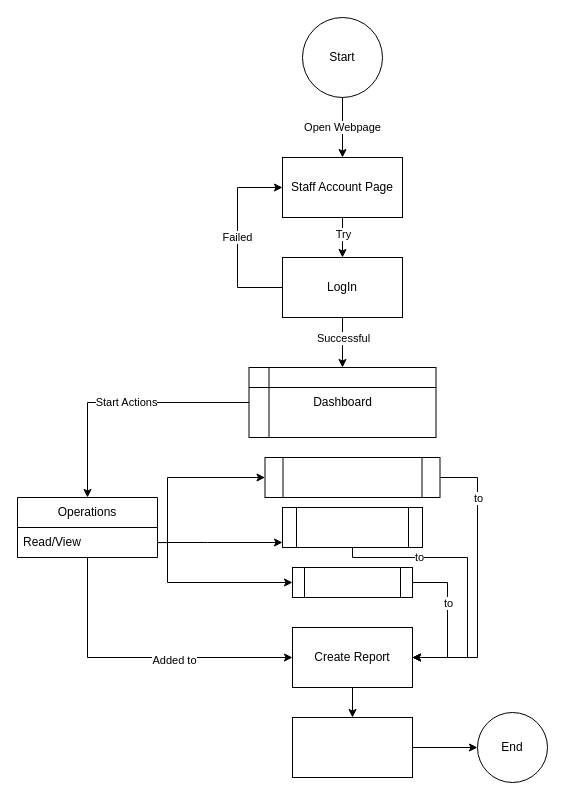
Some shapes in this 565 by 800 pixel diagram are drawn without their labels. The centre of each missing label's shape, as x and y in pixels:
Logout: the point at 352,747
Orders: the point at 352,527
Sales: the point at 352,477
Suppliers: the point at 352,582
